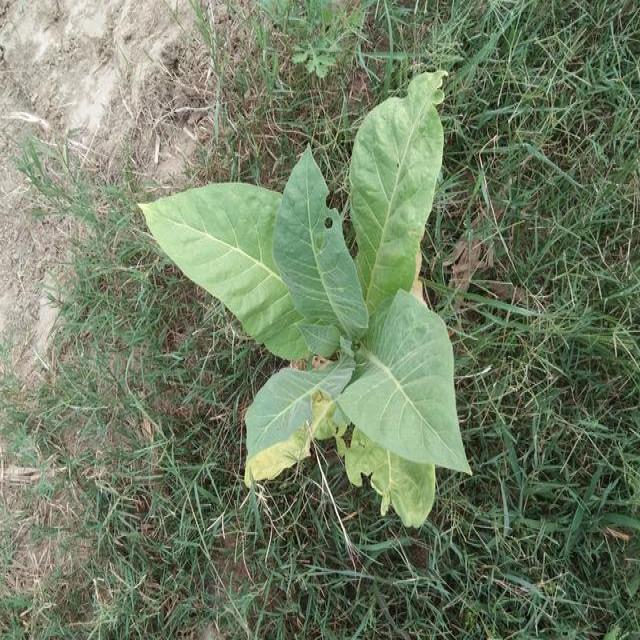crop: (138, 64, 477, 529)
